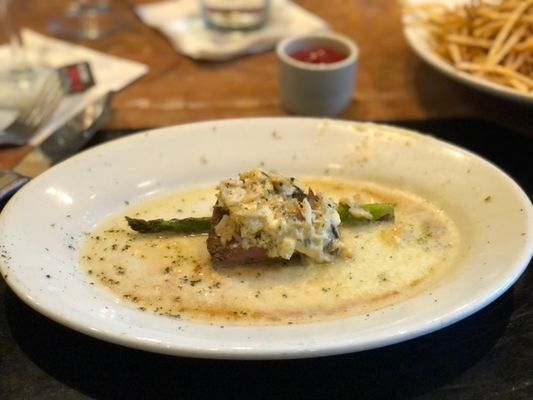sushi: (400, 0, 533, 140), (275, 33, 360, 118)
